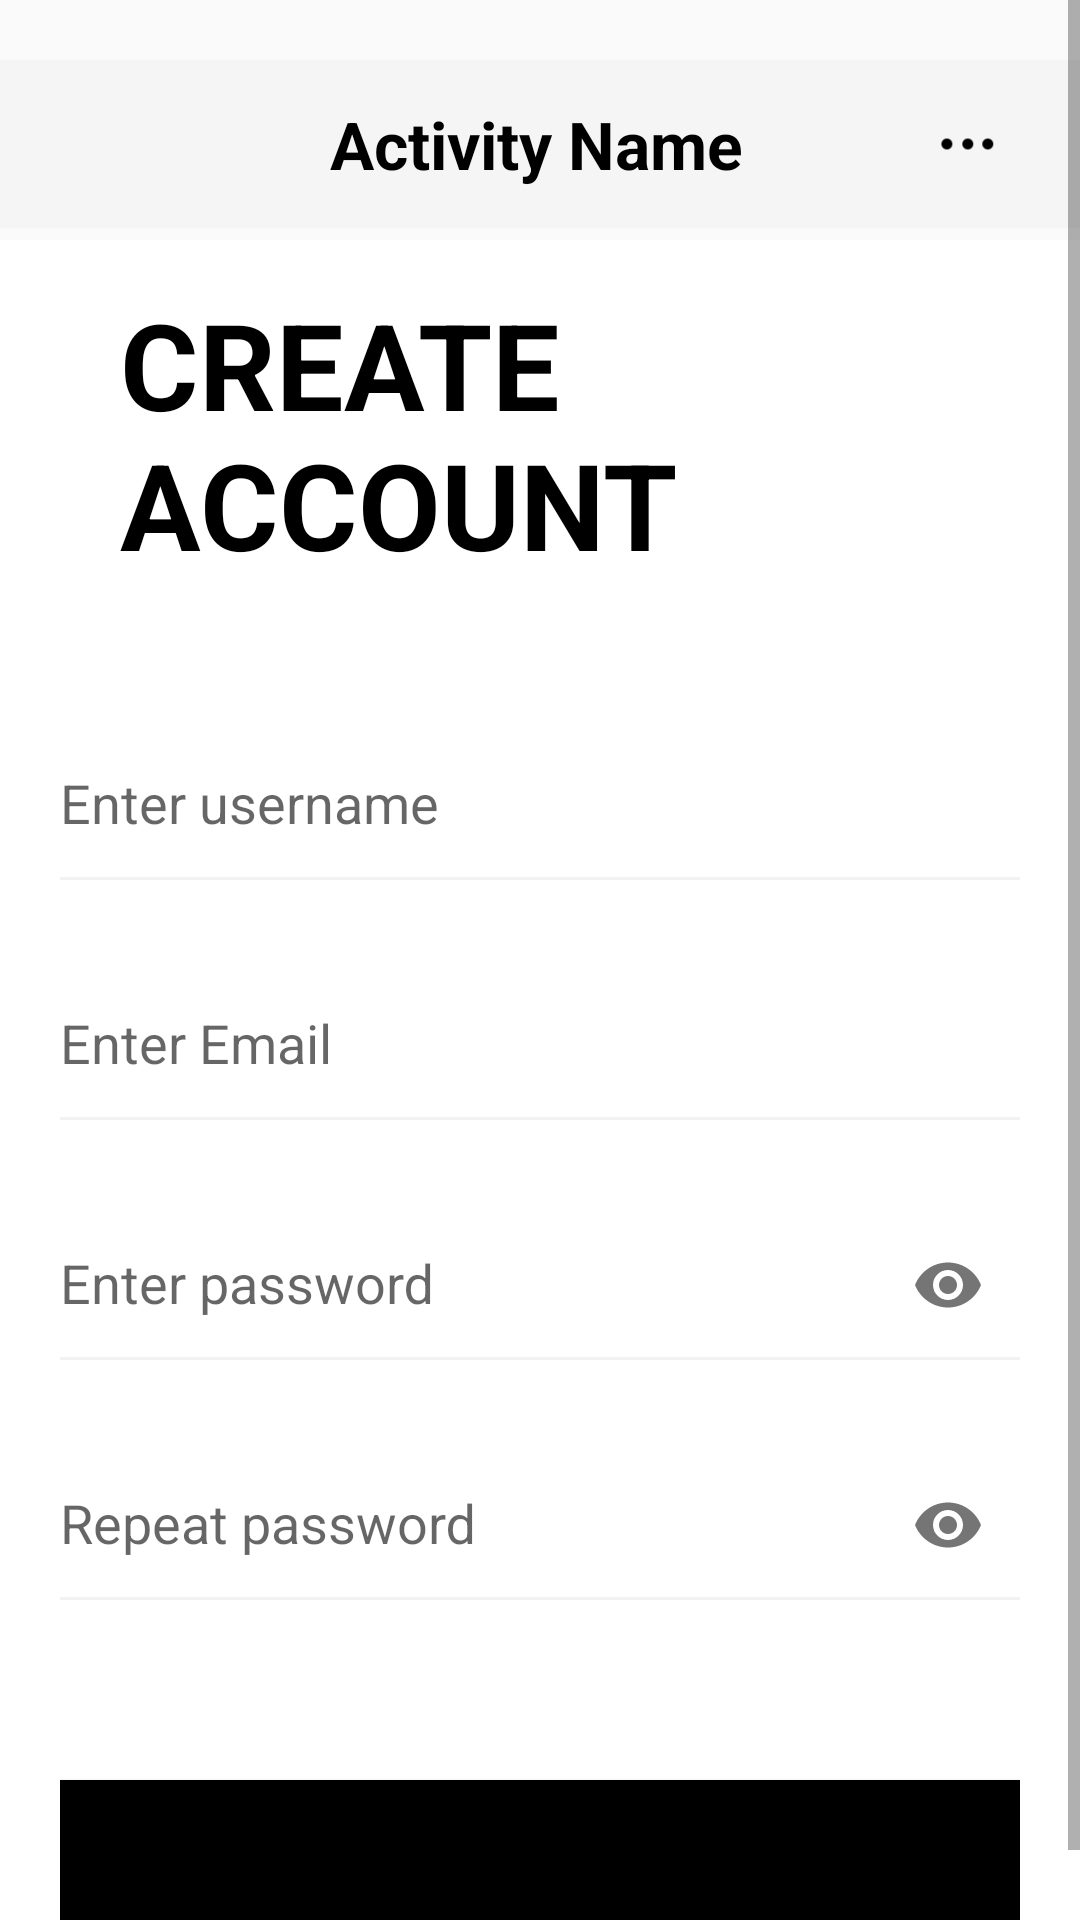

Locate icon controls on the screen. Image size 1080w x 1920h, boxes as bbox(x1, y1, x2, y2).
navbar more: bbox(941, 138, 994, 150)
